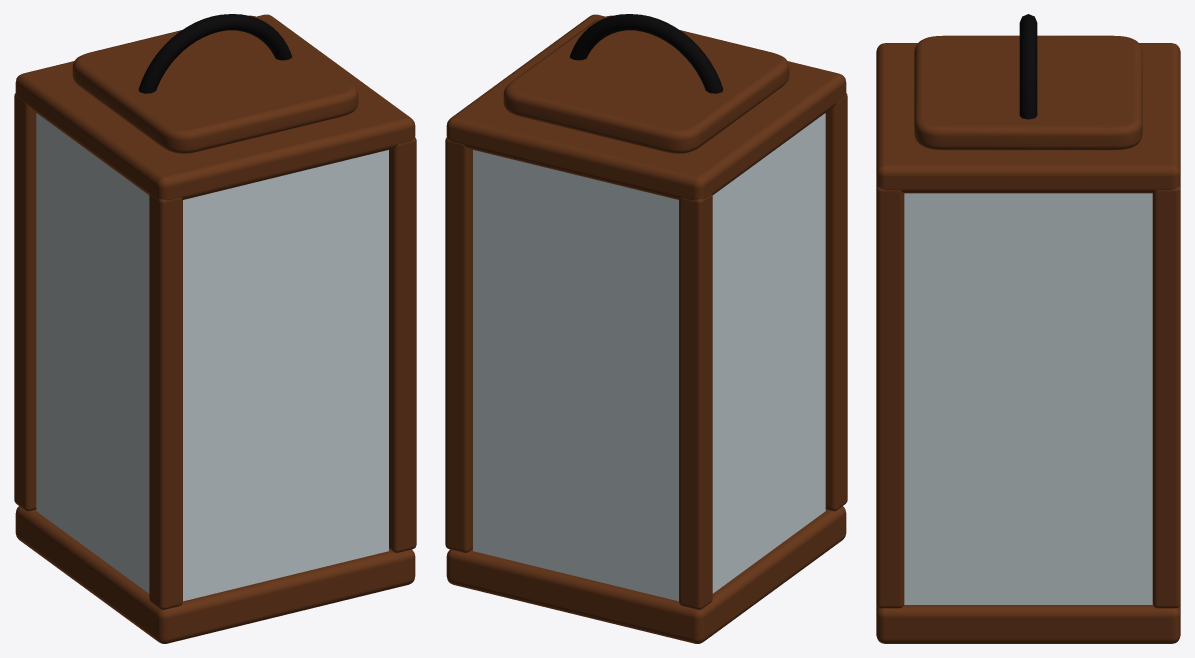
File: outdoor-lantern-lod0.glb
3 renders of one model, left to right at view 1: azimuth 30°, elevation 25°; view 2: azimuth 150°, elevation 25°; view 3: azimuth 270°, elevation 25°, orthographic. The views are drawn at different scales.
Parts seen in each view (by area): view 1: Lantern glass, Oiled teak, Powder-coated bronze aluminium; view 2: Lantern glass, Oiled teak, Powder-coated bronze aluminium; view 3: Lantern glass, Oiled teak, Powder-coated bronze aluminium.
Part boxes in pixels (x1=…): Lantern glass: x1=36, y1=113, x2=388, y2=601; Oiled teak: x1=14, y1=14, x2=416, y2=643; Powder-coated bronze aluminium: x1=138, y1=14, x2=292, y2=93; Lantern glass: x1=473, y1=113, x2=825, y2=601; Oiled teak: x1=445, y1=14, x2=847, y2=643; Powder-coated bronze aluminium: x1=569, y1=14, x2=723, y2=93; Lantern glass: x1=904, y1=193, x2=1152, y2=604; Oiled teak: x1=876, y1=35, x2=1180, y2=643; Powder-coated bronze aluminium: x1=1019, y1=14, x2=1037, y2=119.
Size of the model in its own units: 0.3048 by 0.6185 by 0.3048.
